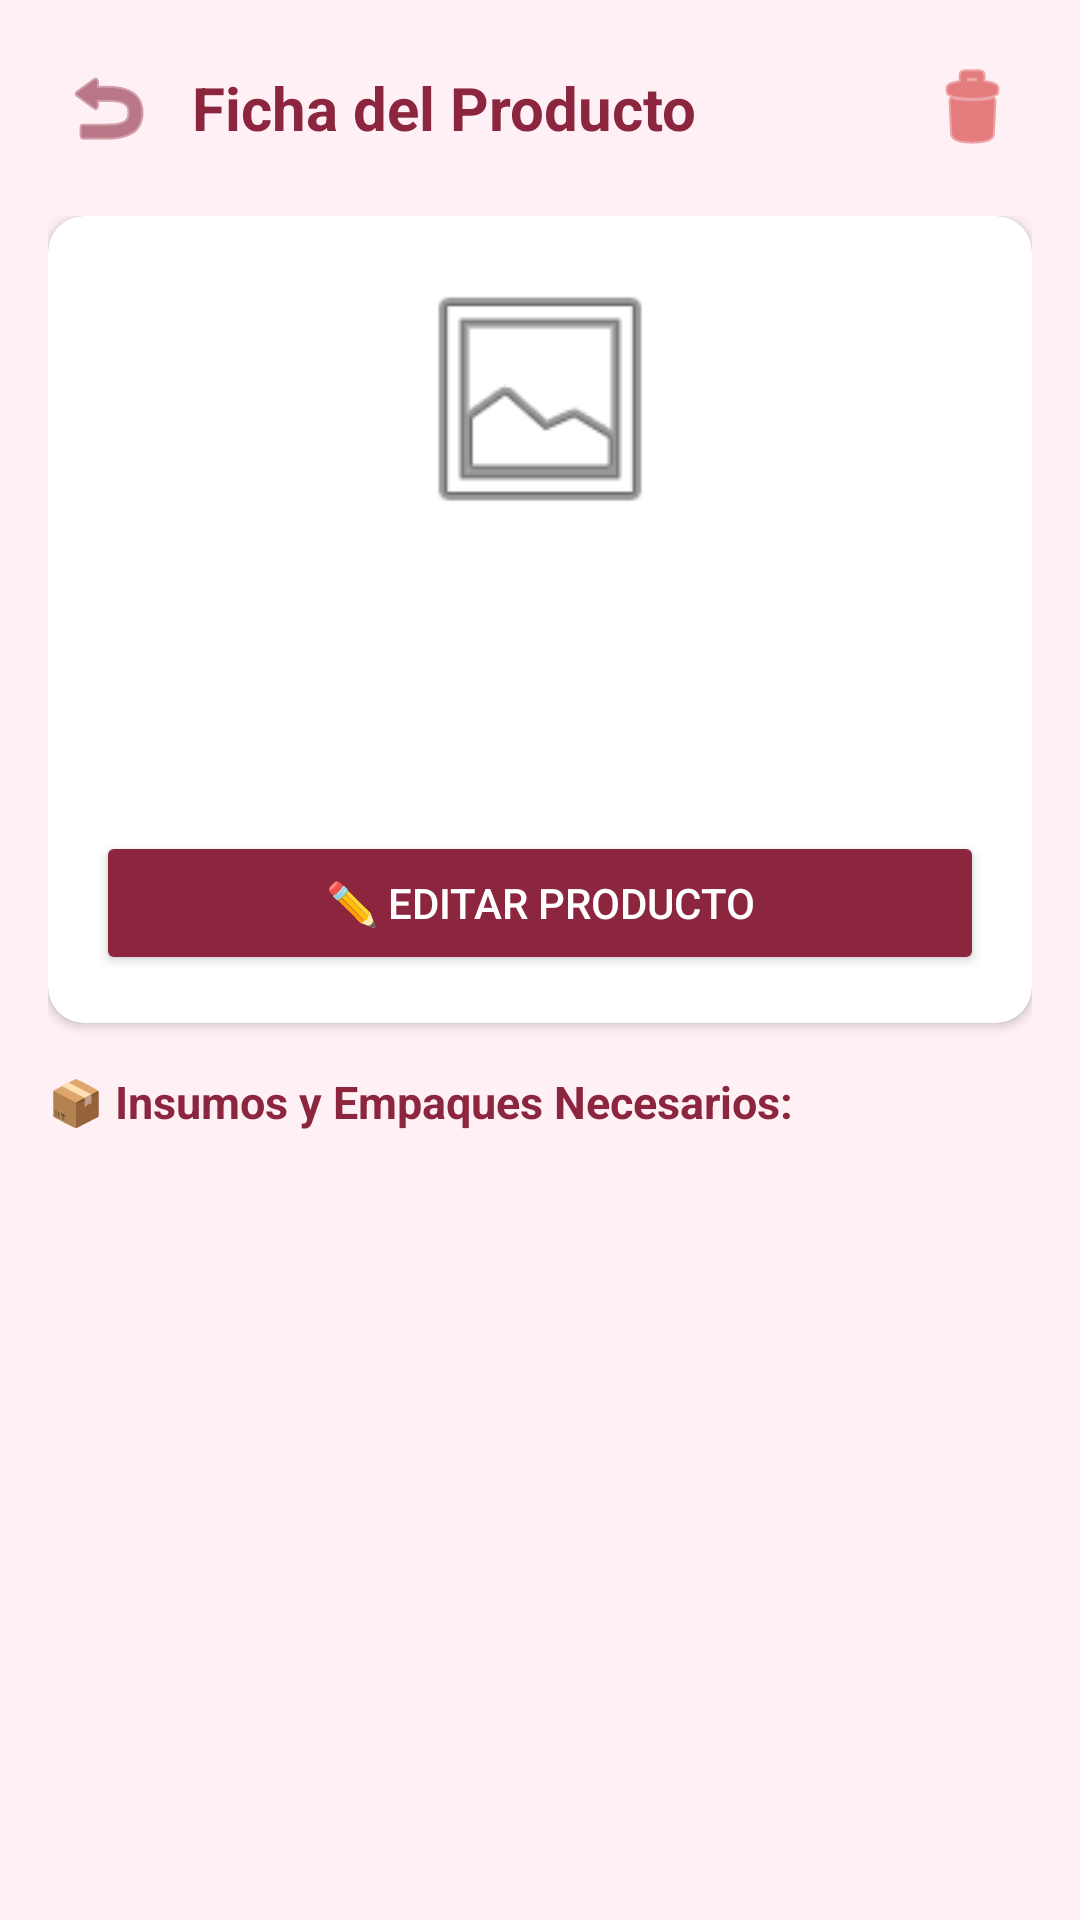

Point at icon controls on the screen. Image size 1080px×1920px, points as (x=x, y=y).
Eliminar producto: (x=972, y=106)
gallery: (x=540, y=399)
Volver al catálogo: (x=109, y=108)
